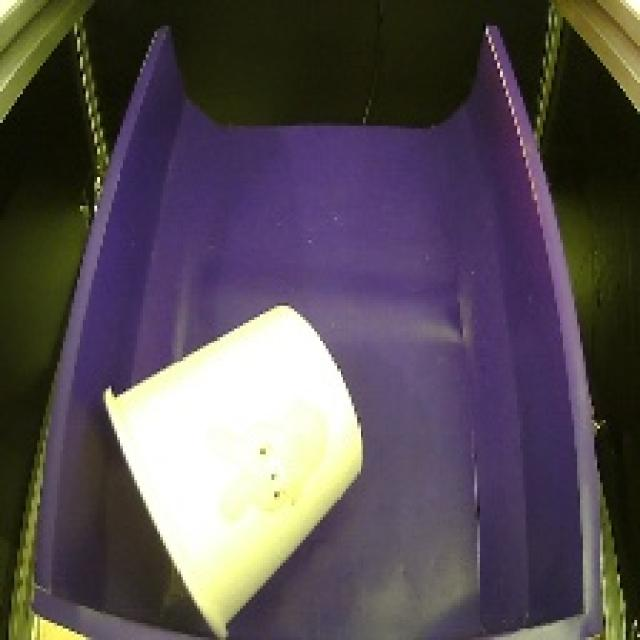cups: (90, 293, 371, 640)
